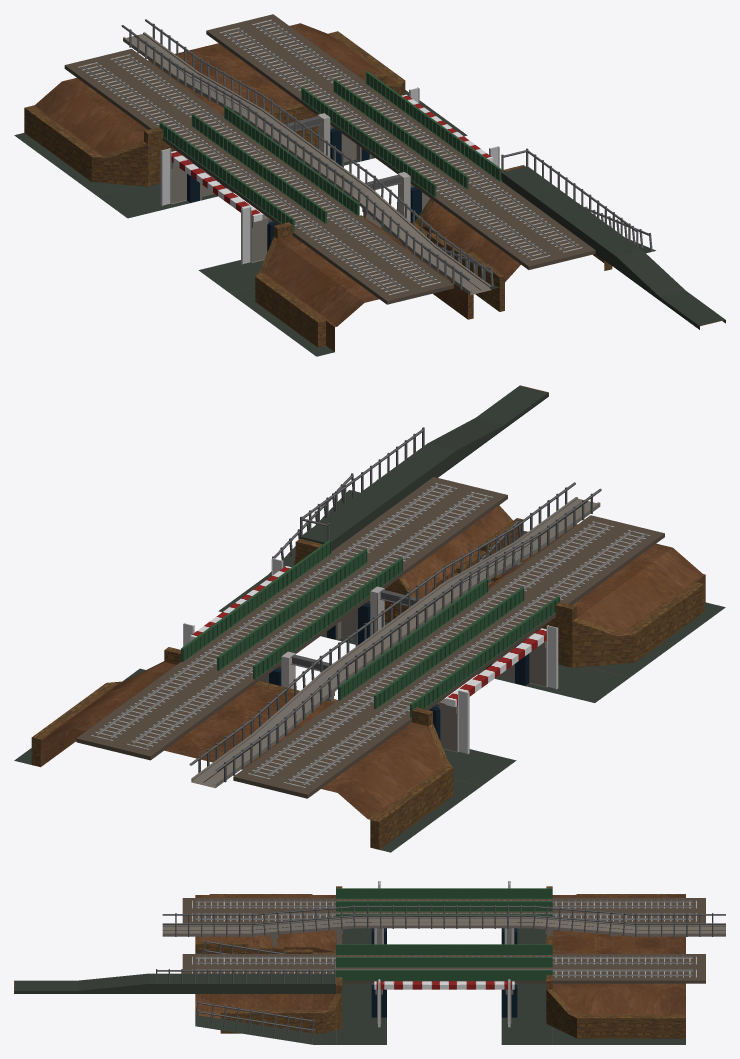
The model's file is MontyBridge V2.fbx.
The picture shows the model from 3 angles, top to bottom: view 1: azimuth 30°, elevation 25°; view 2: azimuth 150°, elevation 25°; view 3: azimuth 270°, elevation 25°; orthographic projection. The views are drawn at different scales.
Parts seen in each view (by area): view 1: Bridge_OuterFlats, Bridge_MiddleShiny, Bridge_MiddleFlats, Bridge_OuterShiny; view 2: Bridge_OuterFlats, Bridge_MiddleShiny, Bridge_MiddleFlats, Bridge_OuterShiny; view 3: Bridge_OuterFlats, Bridge_MiddleShiny, Bridge_OuterShiny, Bridge_MiddleFlats.
Part boxes in pixels (x1=…): Bridge_OuterFlats: x1=14, y1=14, x2=725, y2=356; Bridge_MiddleShiny: x1=160, y1=80, x2=499, y2=264; Bridge_MiddleFlats: x1=170, y1=92, x2=486, y2=262; Bridge_OuterShiny: x1=81, y1=19, x2=652, y2=293; Bridge_OuterFlats: x1=14, y1=385, x2=725, y2=852; Bridge_MiddleShiny: x1=183, y1=549, x2=558, y2=754; Bridge_MiddleFlats: x1=196, y1=563, x2=547, y2=752; Bridge_OuterShiny: x1=94, y1=427, x2=646, y2=786; Bridge_OuterFlats: x1=14, y1=886, x2=725, y2=1044; Bridge_MiddleShiny: x1=355, y1=881, x2=533, y2=1027; Bridge_OuterShiny: x1=156, y1=888, x2=725, y2=1042; Bridge_MiddleFlats: x1=355, y1=899, x2=533, y2=1023.
Bounding box in the file's own units: 49.93 × 10.96 × 112.
